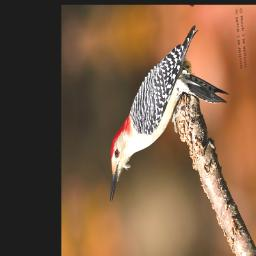Woodpecker: (97, 15, 237, 204)
